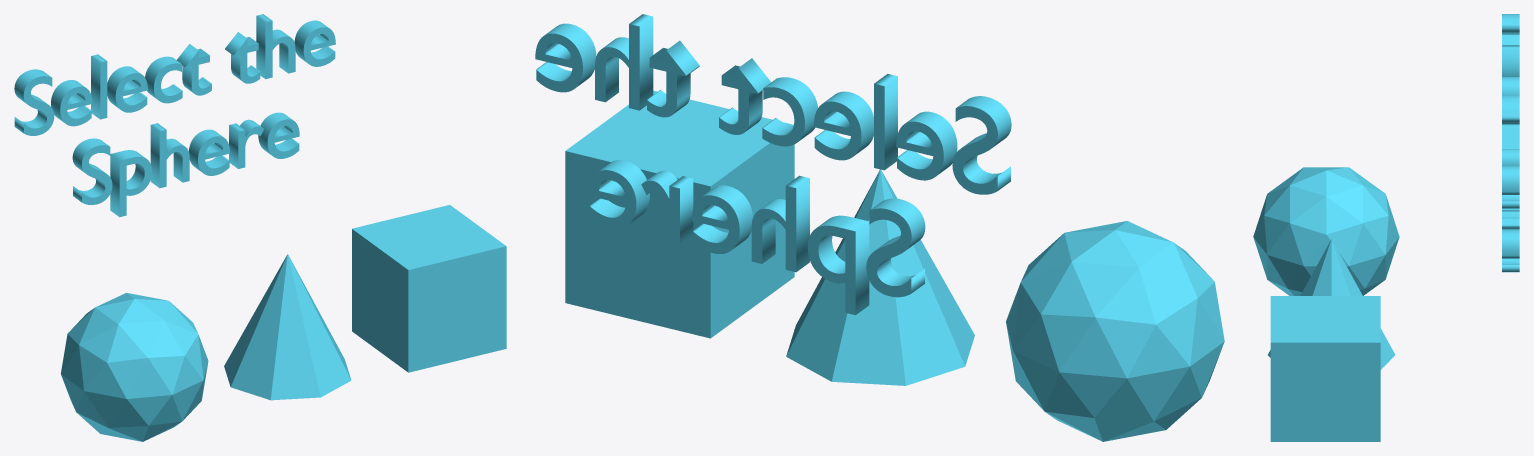
File: console_test_001.fbx
3 renders of one model, left to right at view 1: azimuth 30°, elevation 25°; view 2: azimuth 150°, elevation 25°; view 3: azimuth 270°, elevation 25°, orthographic. The views are drawn at different scales.
Parts seen in each view (by area): view 1: Txt_Test_01, Failure, Success, Failure.001; view 2: Txt_Test_01, Success, Failure, Failure.001; view 3: Failure, Success, Txt_Test_01, Failure.001.
Boxes of the visible parts, left/top/right/bottom form: Txt_Test_01: left=14, top=14, right=335, bottom=217; Failure: left=352, top=205, right=506, bottom=372; Success: left=61, top=293, right=208, bottom=441; Failure.001: left=224, top=254, right=351, bottom=400; Txt_Test_01: left=535, top=14, right=1011, bottom=315; Success: left=1006, top=221, right=1224, bottom=441; Failure: left=565, top=90, right=794, bottom=338; Failure.001: left=786, top=169, right=974, bottom=385; Failure: left=1270, top=296, right=1380, bottom=441; Success: left=1253, top=167, right=1399, bottom=295; Txt_Test_01: left=1502, top=14, right=1519, bottom=272; Failure.001: left=1268, top=239, right=1395, bottom=369.
Bounding box in the file's own units: 1.55 × 1.07 × 0.9102.
